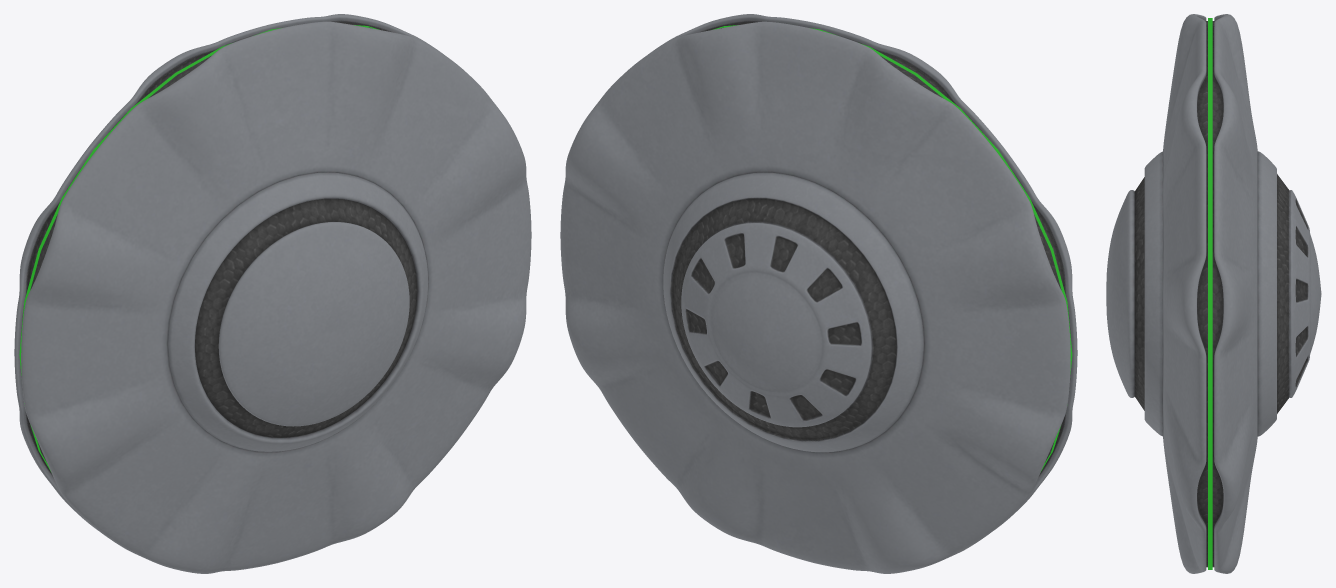
The model's file is Alt_UFO.glb.
3 views of the same model, side by side, from view 1: azimuth 30°, elevation 25°; view 2: azimuth 150°, elevation 25°; view 3: azimuth 270°, elevation 25° (orthographic). The views are drawn at different scales.
Visible parts, largest first — view 1: 13884_UFO_Saucer_v1_l2, Cylinder; view 2: 13884_UFO_Saucer_v1_l2, Cylinder; view 3: 13884_UFO_Saucer_v1_l2, Cylinder.
Part boxes in pixels (bbox=[...]): 13884_UFO_Saucer_v1_l2: bbox=[14, 14, 531, 573]; Cylinder: bbox=[19, 25, 379, 472]; 13884_UFO_Saucer_v1_l2: bbox=[560, 14, 1077, 573]; Cylinder: bbox=[712, 25, 1072, 472]; 13884_UFO_Saucer_v1_l2: bbox=[1106, 14, 1321, 573]; Cylinder: bbox=[1208, 18, 1212, 569].
Size of the model in its own units: 262 by 262 by 101.
2 materials, 1 textured.
